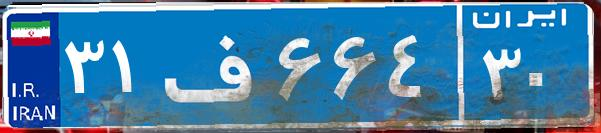0: (525, 38, 570, 115)
1: (110, 28, 158, 105)
3: (57, 26, 110, 107), (475, 38, 525, 113)
4: (385, 28, 445, 110)
6: (273, 28, 330, 110), (330, 28, 385, 110)
ف: (158, 15, 273, 115)
